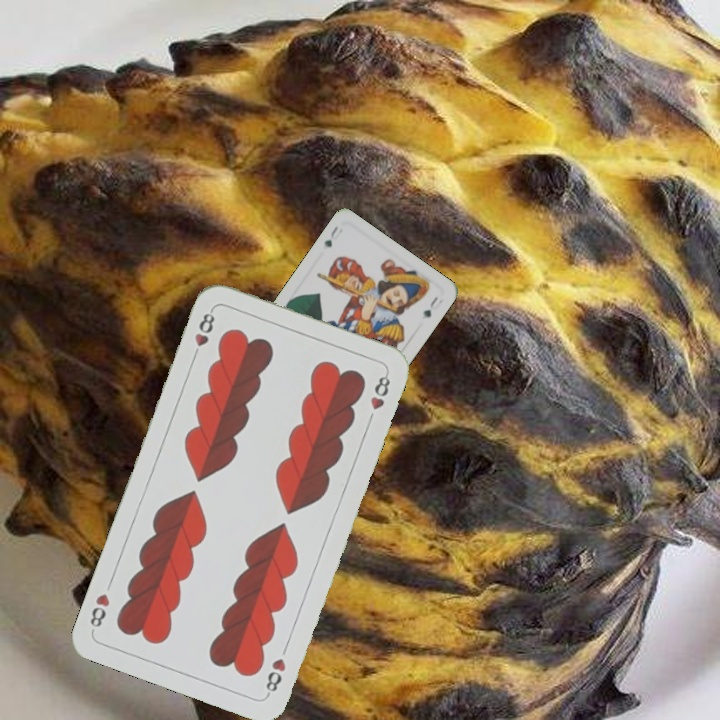GU: (320, 222, 346, 250)
H8: (188, 305, 217, 362), (261, 654, 289, 699)
